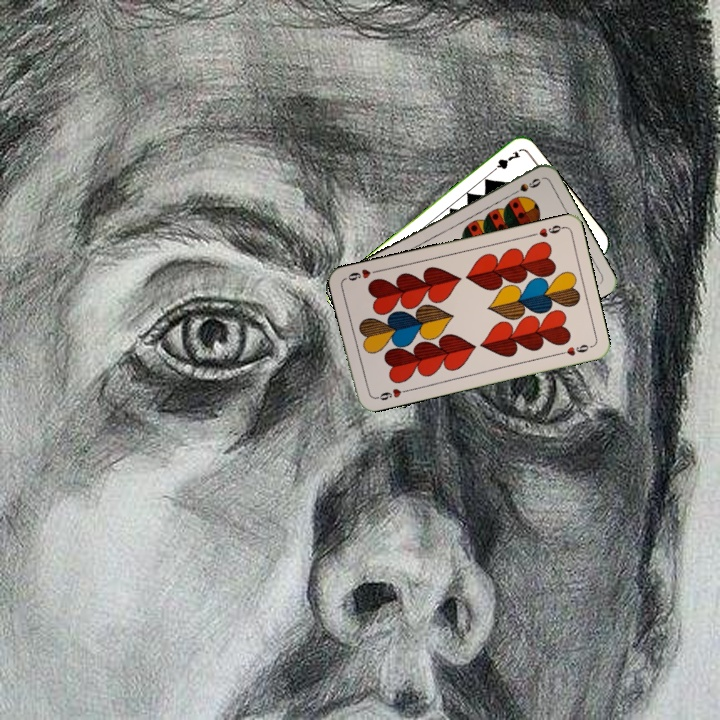G7: (486, 147, 523, 177)
H9: (370, 384, 411, 403), (526, 221, 566, 240)
S9: (506, 174, 544, 199)
